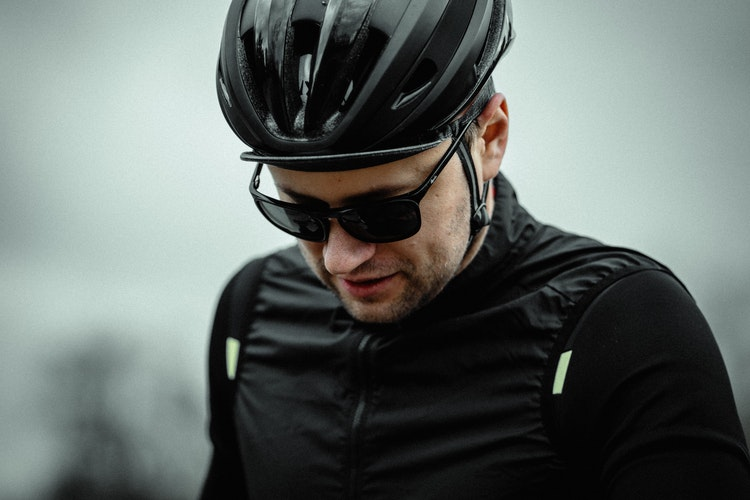helmet: (206, 7, 515, 158)
